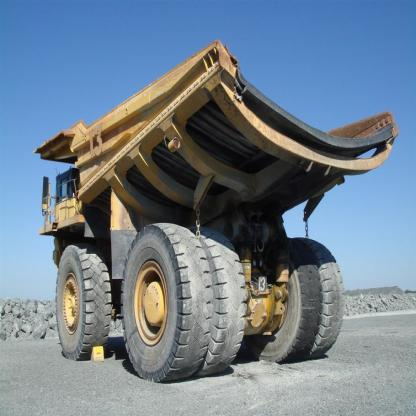dump_truck: (37, 36, 396, 368)
